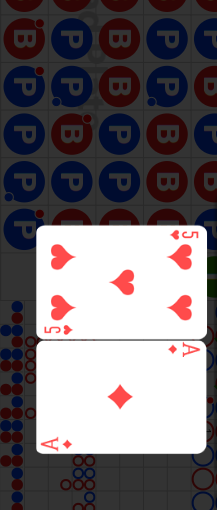5H: (168, 229, 200, 241)
AD: (166, 343, 201, 359)
